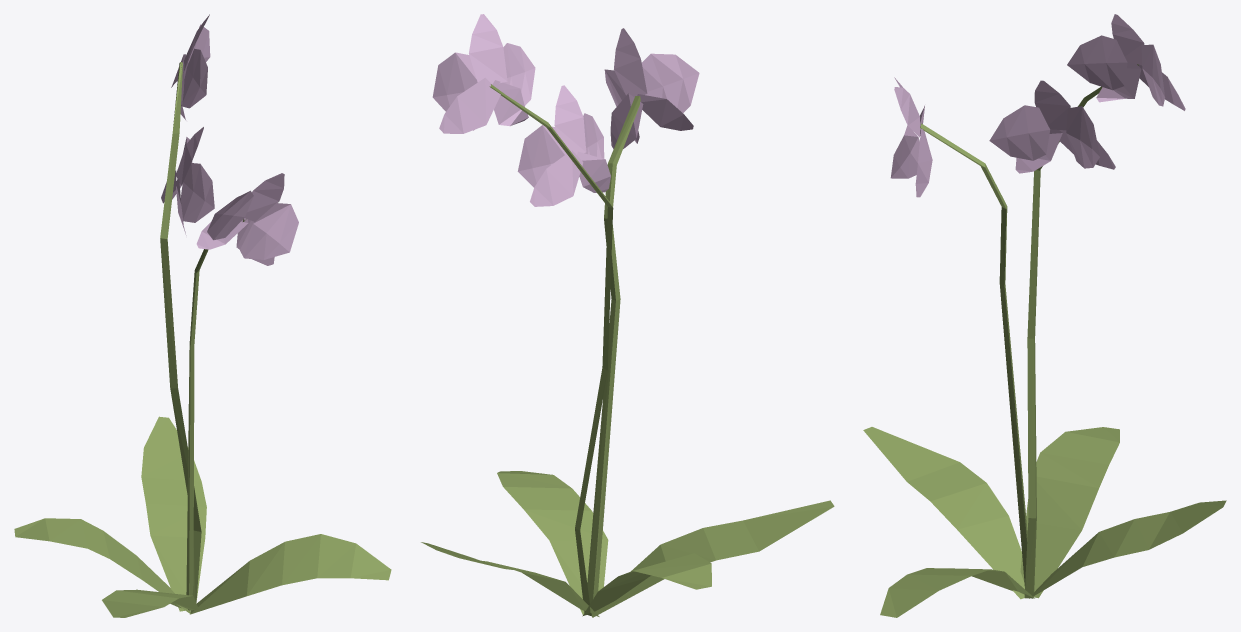
Rendered from BulbophyllumPhalaenopsis.glb.
3 views of the same model, side by side, from view 1: azimuth 30°, elevation 25°; view 2: azimuth 150°, elevation 25°; view 3: azimuth 270°, elevation 25° (orthographic). The views are drawn at different scales.
Parts seen in each view (by area): view 1: Trunk, Crown; view 2: Trunk, Crown; view 3: Trunk, Crown.
Boxes of the visible parts, box(x1,y1,x2,y2) form: Trunk: box(14, 62, 391, 617); Crown: box(161, 14, 298, 265); Trunk: box(421, 84, 834, 617); Crown: box(432, 14, 699, 206); Trunk: box(863, 64, 1226, 617); Crown: box(890, 14, 1185, 197).
Size of the model in its own units: 0.3876 by 0.707 by 0.3797.
